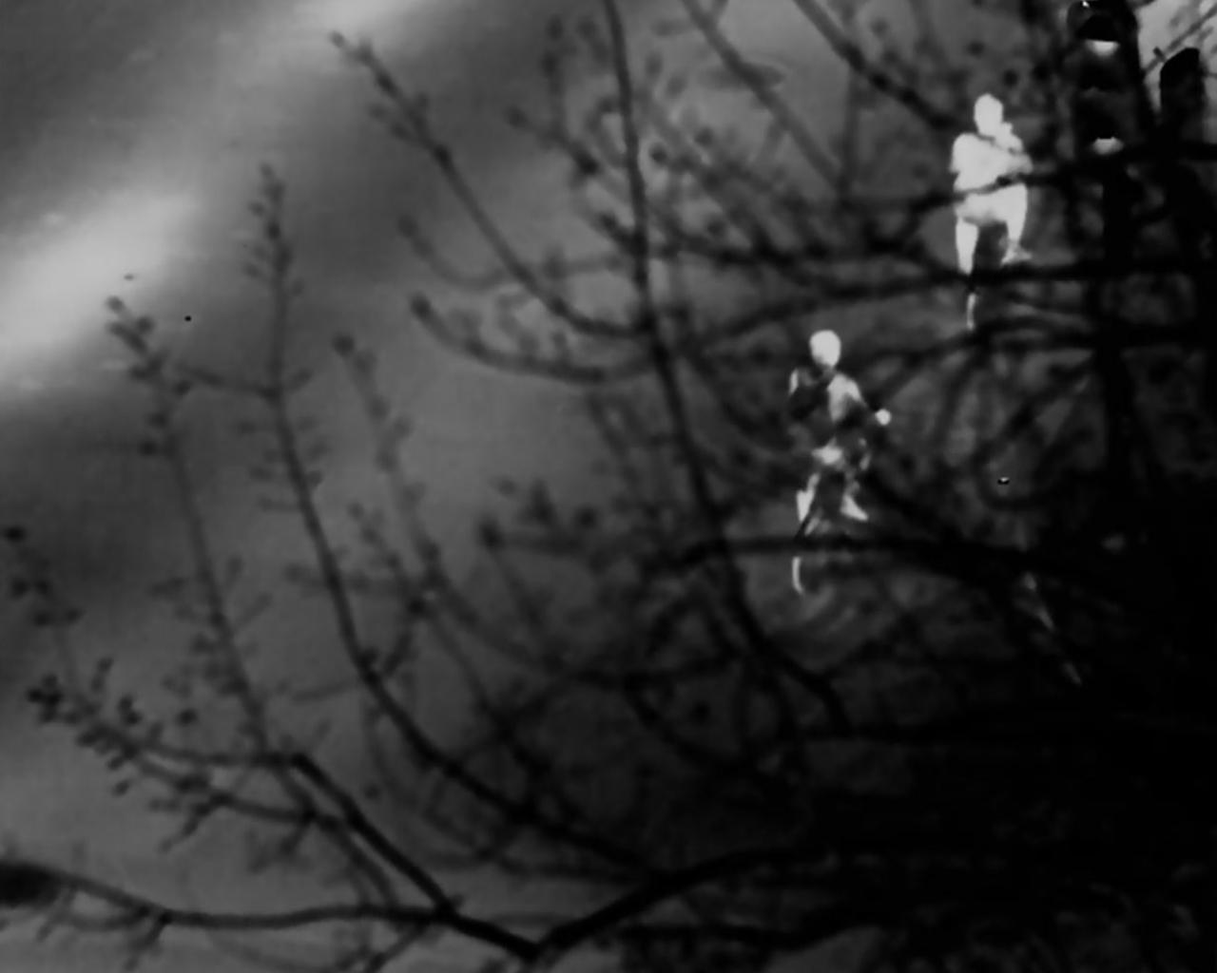person: (783, 324, 879, 563), (945, 89, 1024, 339)
